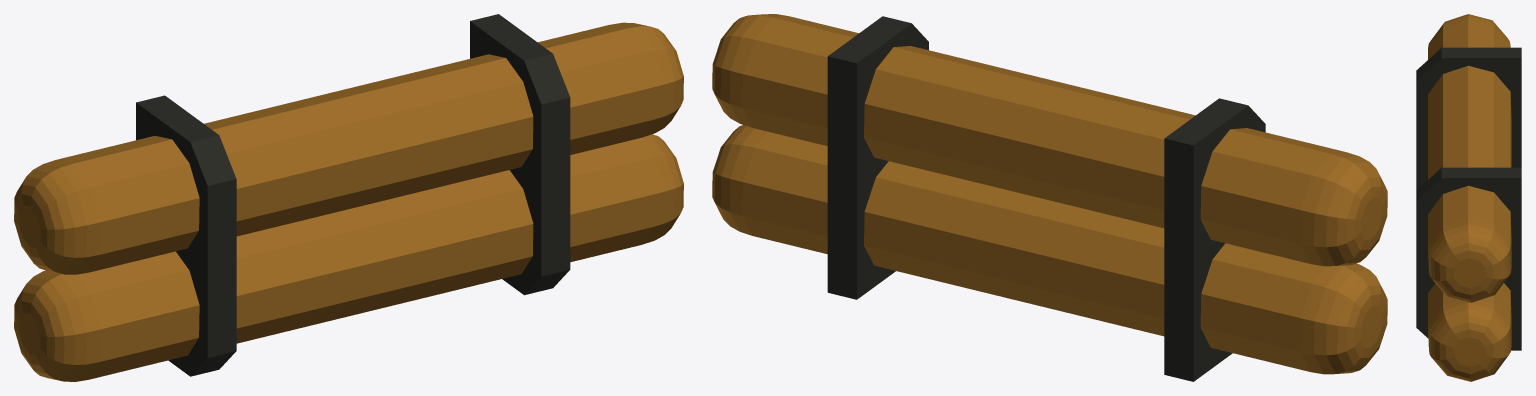
File: 04 Air_cylinder.FBX
3 renders of one model, left to right at view 1: azimuth 30°, elevation 25°; view 2: azimuth 150°, elevation 25°; view 3: azimuth 270°, elevation 25°, orthographic. The views are drawn at different scales.
Parts seen in each view (by area): view 1: Box043; view 2: Box043; view 3: Box043.
Boxes of the visible parts, left/top/right/bottom form: Box043: left=14, top=14, right=683, bottom=381; Box043: left=712, top=14, right=1387, bottom=381; Box043: left=1416, top=14, right=1521, bottom=381.
Size of the model in its own units: 1500 by 526 by 291.
